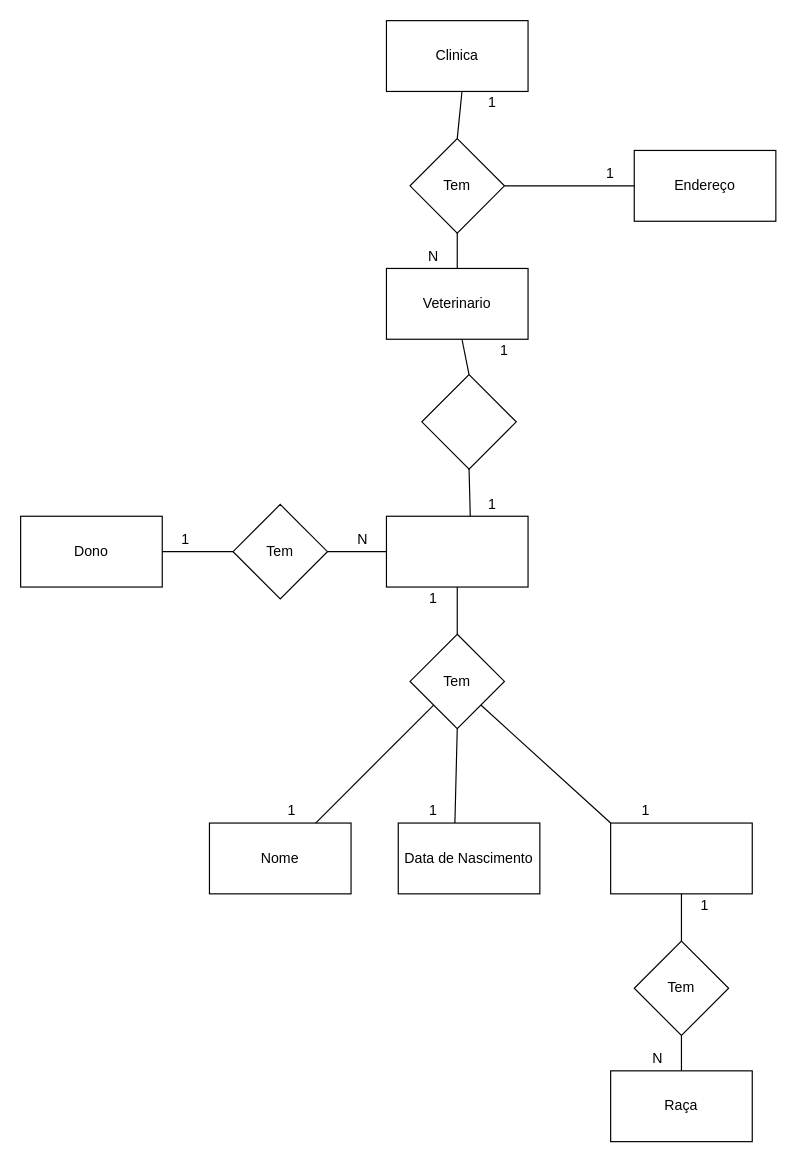
The diagram is 796 pixels wide and 1162 high, and some of its shapes have lost their labels. The centre of each missing label's shape, as x and y in pixels:
Atende: the point at 468,421
Pet: the point at 456,551
Tipo: the point at 680,858
